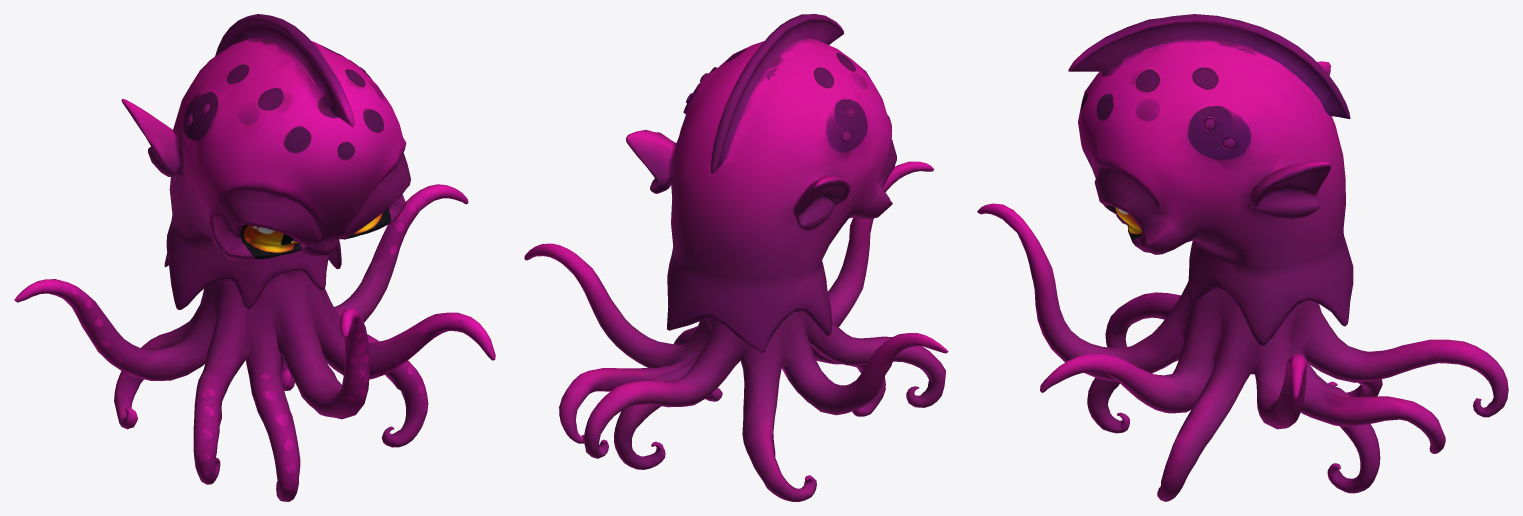
The model's file is squid-big.glb.
3 renders of one model, left to right at view 1: azimuth 30°, elevation 25°; view 2: azimuth 150°, elevation 25°; view 3: azimuth 270°, elevation 25°, orthographic. The views are drawn at different scales.
Size of the model in its own units: 0.9497 by 0.8755 by 0.9521.
1 material, 1 textured.
